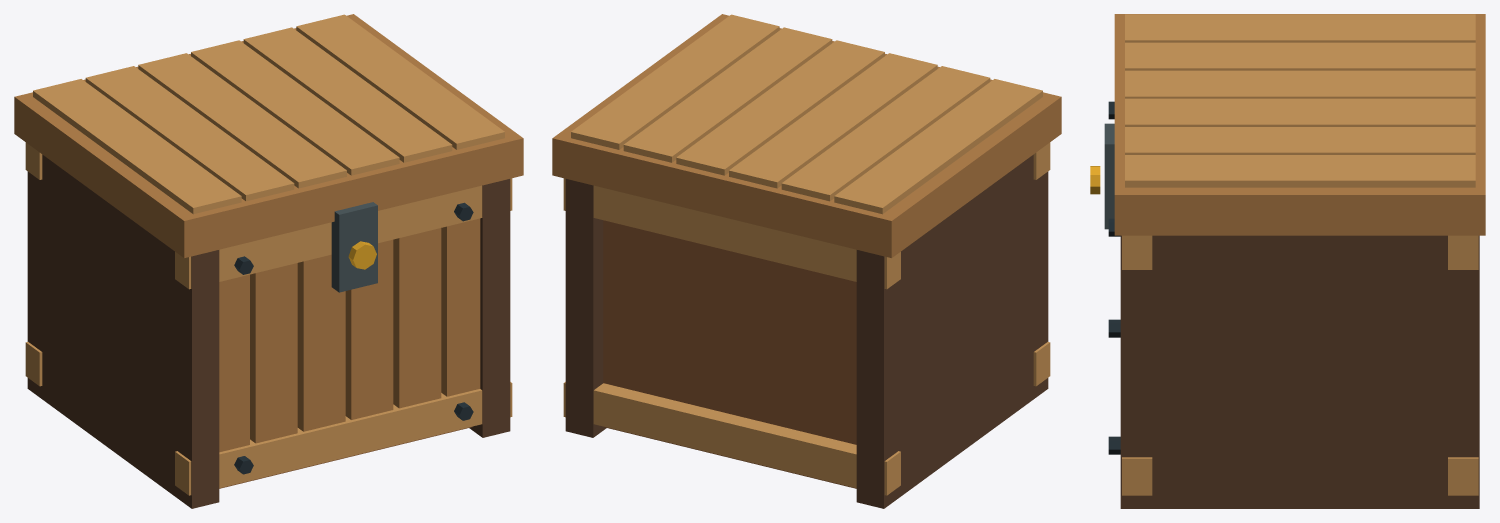
File: storage_set__storage_chest.glb
The picture shows the model from 3 angles, left to right: view 1: azimuth 30°, elevation 25°; view 2: azimuth 150°, elevation 25°; view 3: azimuth 270°, elevation 25°; orthographic projection. The views are drawn at different scales.
Visible parts, largest first — view 1: storage_chest__wood_dark.001, chest_lid__wood3.001, storage_chest__wood2.001, chest_lid__wood2.001, storage_chest__wood3.001, storage_chest__metal.001, storage_chest__dark.001, storage_chest__yellow.001; view 2: storage_chest__wood_dark.001, chest_lid__wood3.001, storage_chest__wood.001, chest_lid__wood2.001, storage_chest__wood3.001; view 3: storage_chest__wood_dark.001, chest_lid__wood3.001, chest_lid__wood2.001, storage_chest__wood3.001, storage_chest__metal.001, storage_chest__dark.001.
Part boxes in pixels (x1=…): storage_chest__wood_dark.001: x1=27, y1=154, x2=510, y2=508; chest_lid__wood3.001: x1=33, y1=14, x2=504, y2=214; storage_chest__wood2.001: x1=219, y1=218, x2=480, y2=452; chest_lid__wood2.001: x1=14, y1=14, x2=523, y2=258; storage_chest__wood3.001: x1=25, y1=142, x2=512, y2=495; storage_chest__metal.001: x1=331, y1=202, x2=377, y2=292; storage_chest__dark.001: x1=234, y1=202, x2=473, y2=474; storage_chest__yellow.001: x1=348, y1=241, x2=376, y2=269; storage_chest__wood_dark.001: x1=565, y1=154, x2=1048, y2=508; chest_lid__wood3.001: x1=571, y1=14, x2=1042, y2=214; storage_chest__wood.001: x1=603, y1=220, x2=856, y2=488; chest_lid__wood2.001: x1=552, y1=14, x2=1061, y2=258; storage_chest__wood3.001: x1=563, y1=142, x2=1050, y2=495; storage_chest__wood_dark.001: x1=1120, y1=235, x2=1479, y2=508; chest_lid__wood3.001: x1=1125, y1=14, x2=1475, y2=187; chest_lid__wood2.001: x1=1114, y1=14, x2=1485, y2=235; storage_chest__wood3.001: x1=1122, y1=235, x2=1478, y2=495; storage_chest__metal.001: x1=1104, y1=123, x2=1114, y2=229; storage_chest__dark.001: x1=1108, y1=101, x2=1120, y2=454.
Bounding box in the file's own units: 1.05 × 0.8835 × 0.97.
